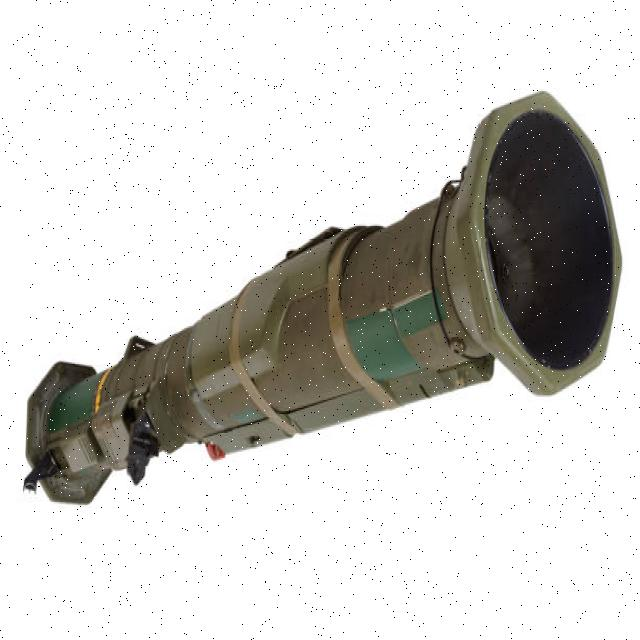bazooka: (19, 77, 634, 518)
